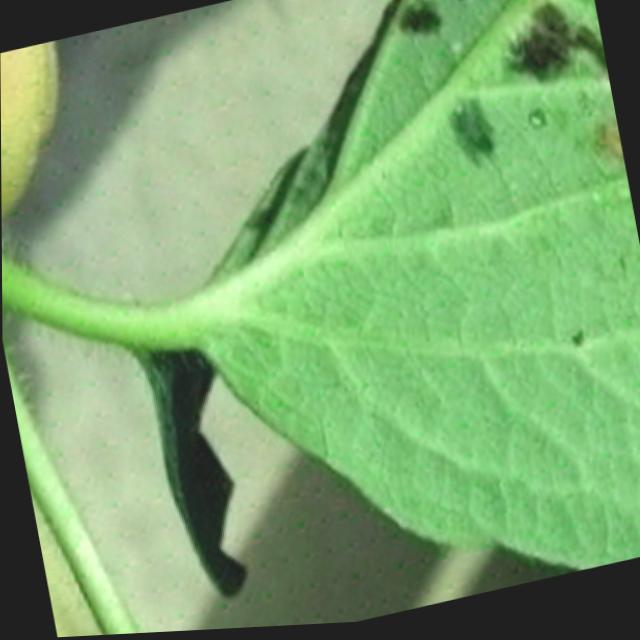Angular Leafspot: (228, 0, 640, 416)
